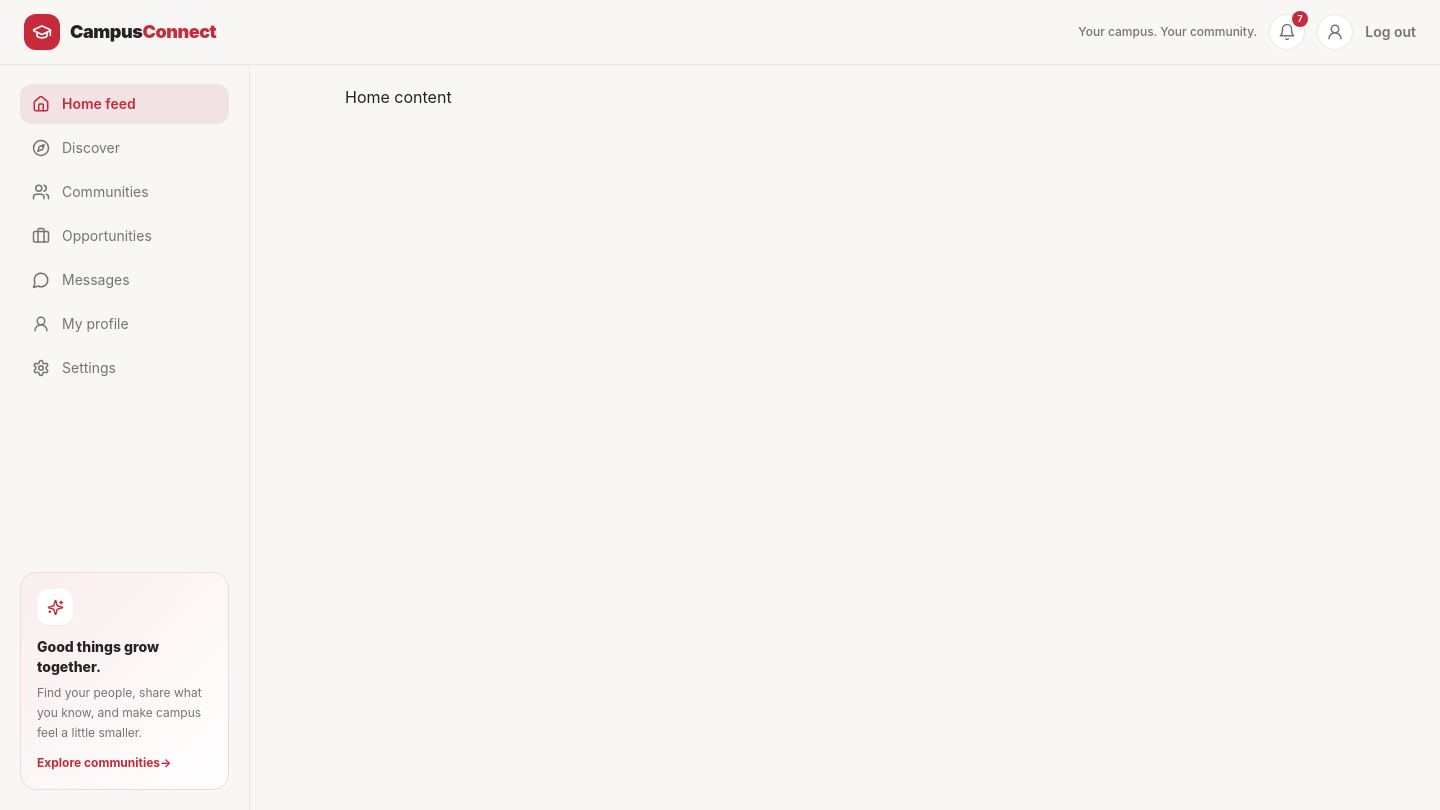
it: StudentLayout navigation › opens the notifications page from the header link
Click the link named "Notifications, 7 unread" at (1287, 32), box [1269,14,1305,50]
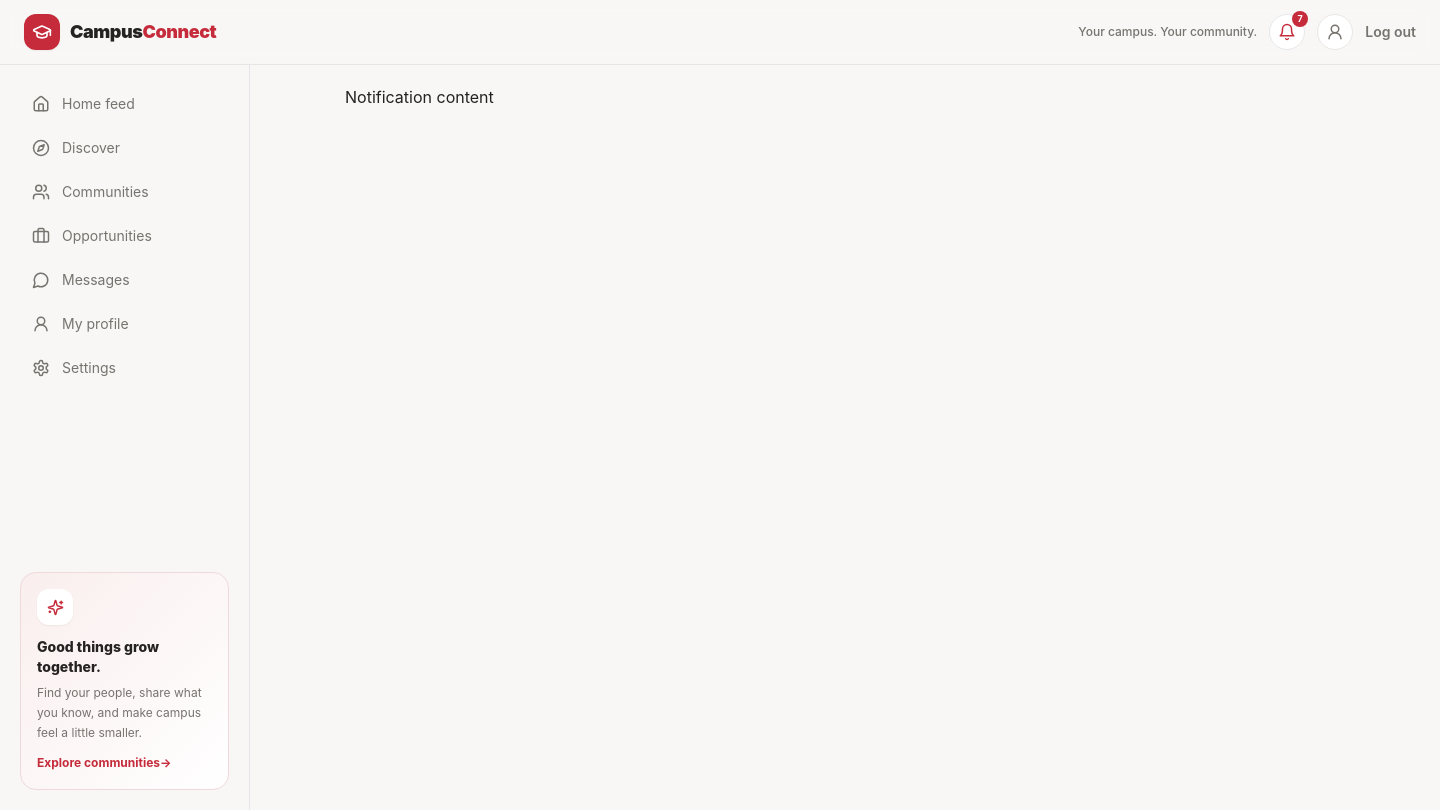
Expected: the text "Notification content" is shown, [345,87,494,107]
